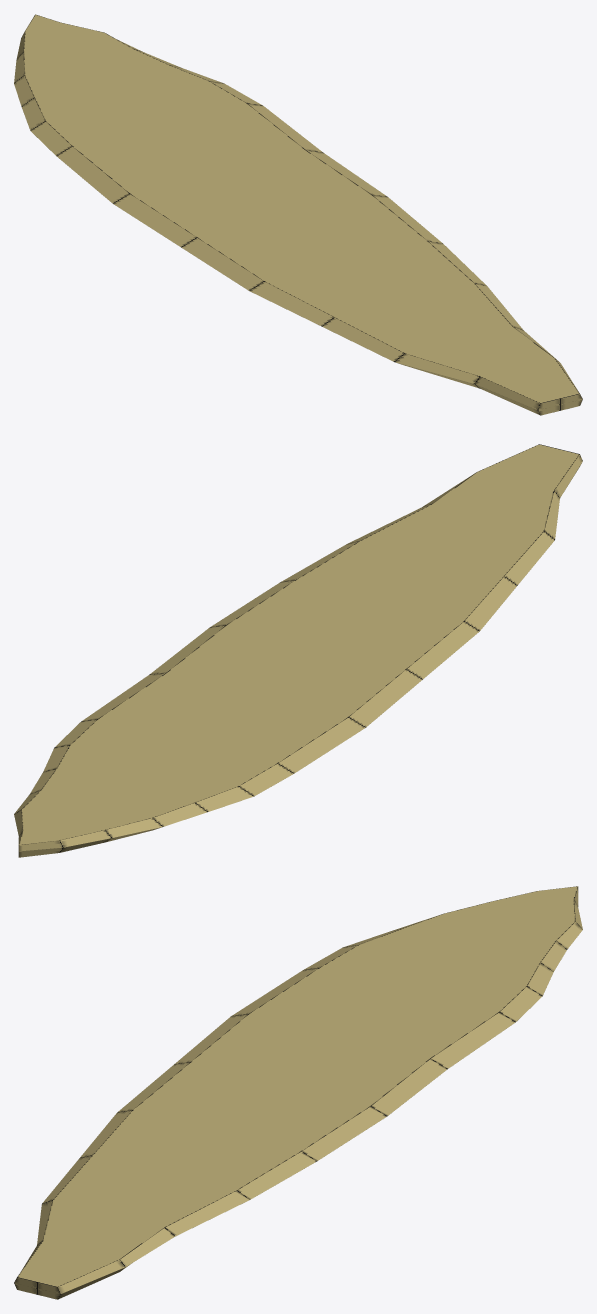
The model's file is thopter_wing_fr.obj.
The picture shows the model from 3 angles, top to bottom: view 1: azimuth 30°, elevation 25°; view 2: azimuth 150°, elevation 25°; view 3: azimuth 330°, elevation 25°; orthographic projection. The views are drawn at different scales.
Parts seen in each view (by area): view 1: large_wing._FR_Cylinder.001; view 2: large_wing._FR_Cylinder.001; view 3: large_wing._FR_Cylinder.001.
Part boxes in pixels (left/top/right/bottom): large_wing._FR_Cylinder.001: left=14, top=14, right=582, bottom=415; large_wing._FR_Cylinder.001: left=14, top=444, right=582, bottom=857; large_wing._FR_Cylinder.001: left=14, top=886, right=582, bottom=1299.
Bounding box in the file's own units: 1.54 × 0.0835 × 6.58.
Materials: 1 (1 with a texture image).
